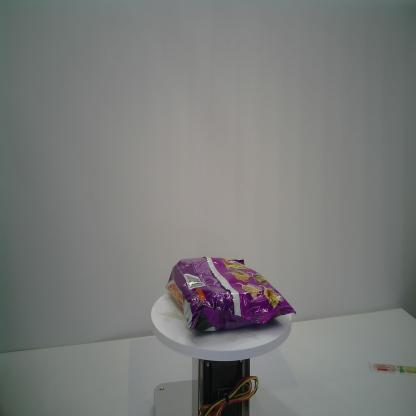Instant Noodles: (166, 256, 296, 333)
